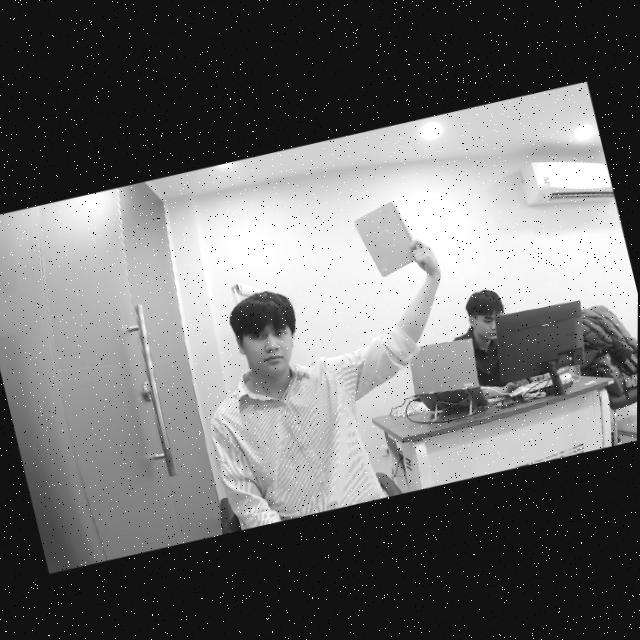document: (351, 201, 421, 277)
face: (227, 293, 309, 387), (462, 291, 511, 349)
